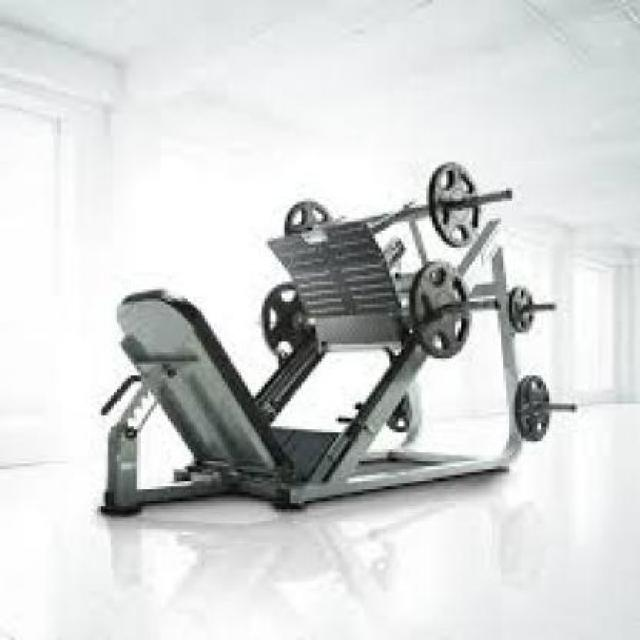leg press: (77, 117, 583, 546)
